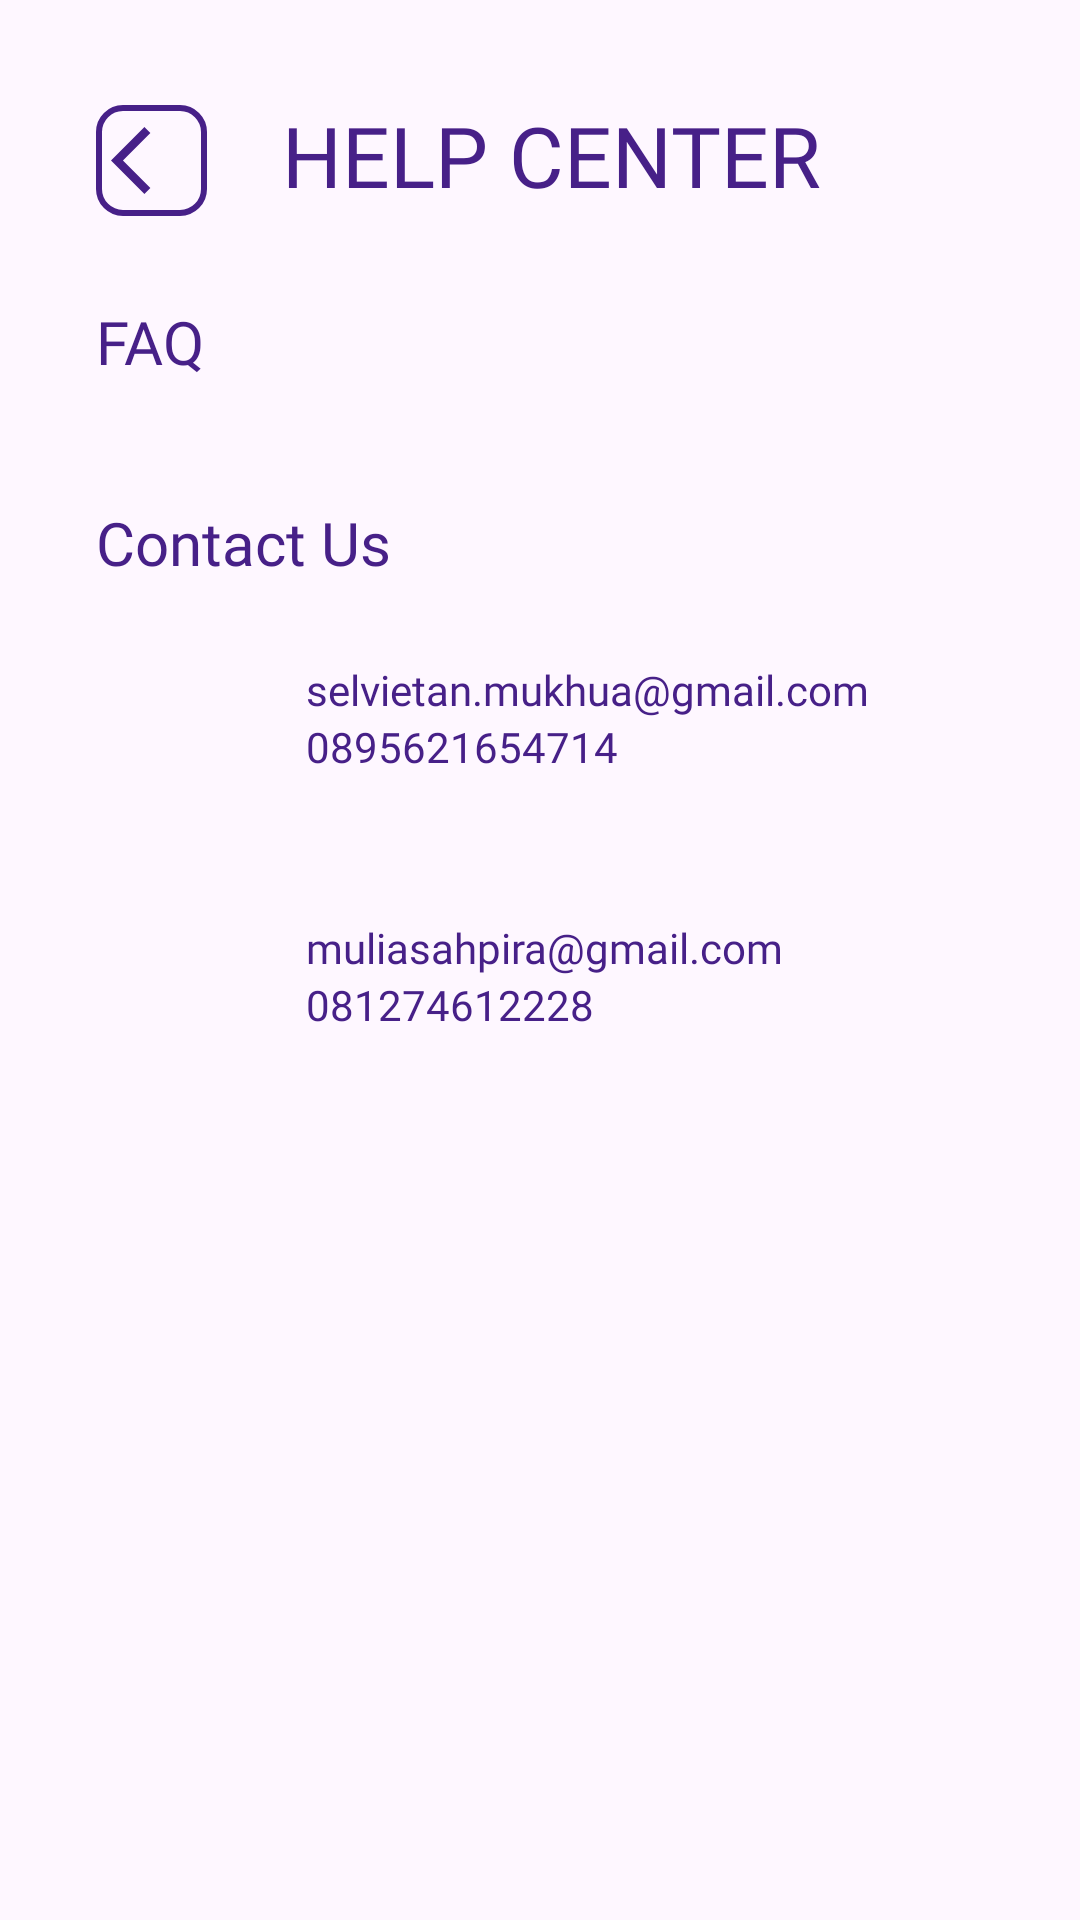

Named icons in this screenshot (1080px×1920px) and their centers, (x,y):
back: (151,160)
